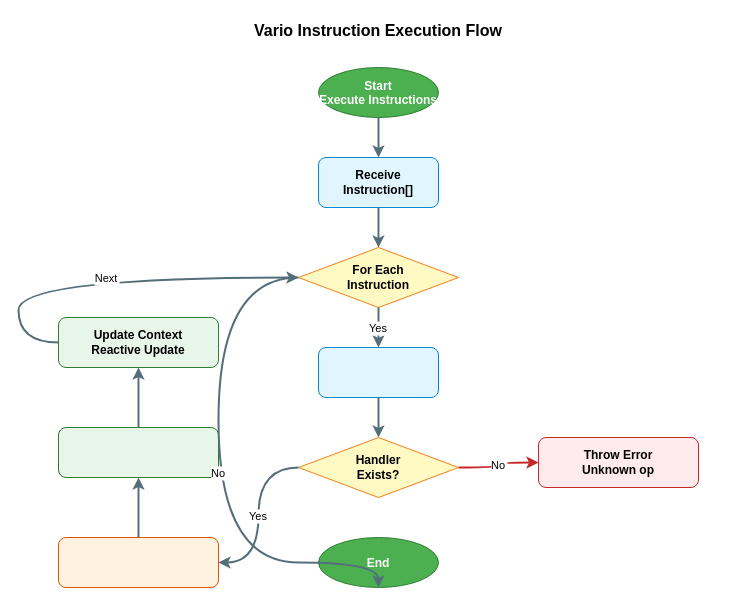
This 755x605 diagram has some shape labels left out. The centre of each missing label's shape, as x and y in pixels:
"Execute Handler handler(ctx, ins)" belongs at pixel 138 452.
"Lookup Handler ctx.$methods[op]" belongs at pixel 378 372.
"Parse Parameters Evaluate Expressions" belongs at pixel 138 562.
